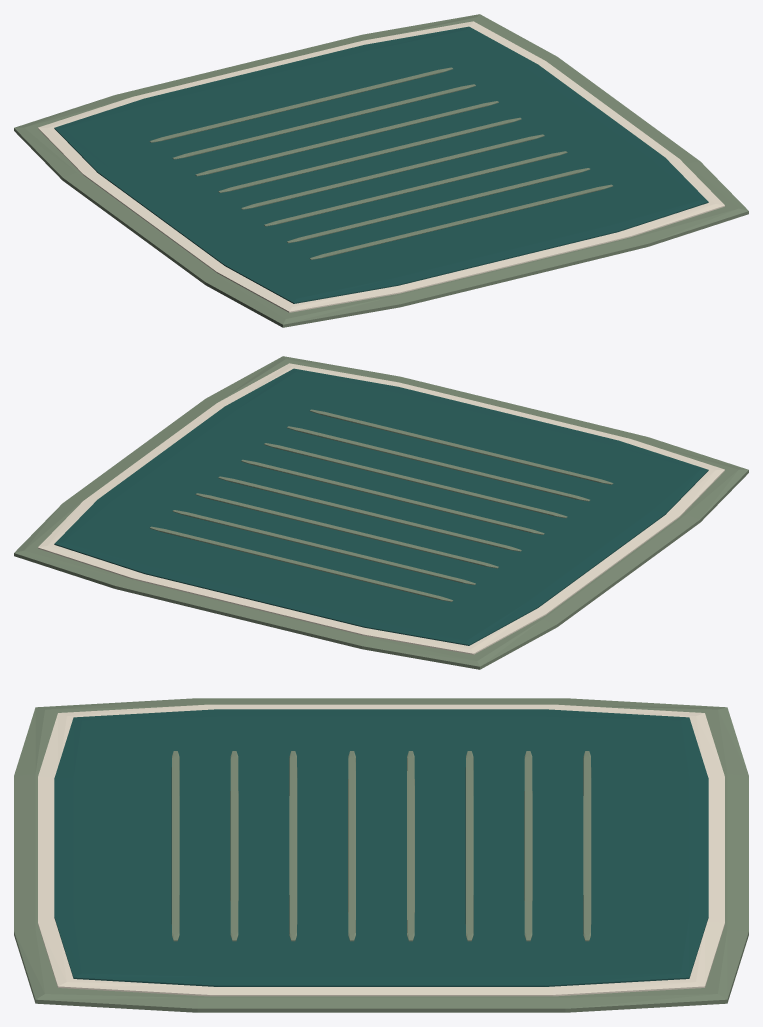
The model's file is better.glb.
The picture shows the model from 3 angles, top to bottom: view 1: azimuth 30°, elevation 25°; view 2: azimuth 150°, elevation 25°; view 3: azimuth 270°, elevation 25°; orthographic projection. The views are drawn at different scales.
Visible parts, largest first — view 1: Native component 1, Native component 10, Native component 0; view 2: Native component 1, Native component 10, Native component 0; view 3: Native component 1, Native component 10, Native component 0.
Part boxes in pixels (<box>): Native component 1: <box>54,26,708,303</box>; Native component 10: <box>14,14,748,327</box>; Native component 0: <box>38,21,724,312</box>; Native component 1: <box>54,368,708,645</box>; Native component 10: <box>14,356,748,669</box>; Native component 0: <box>38,363,724,654</box>; Native component 1: <box>54,709,708,986</box>; Native component 10: <box>14,698,748,1012</box>; Native component 0: <box>38,704,724,996</box>.
Size of the model in its own units: 2 by 0.0425 by 2.
